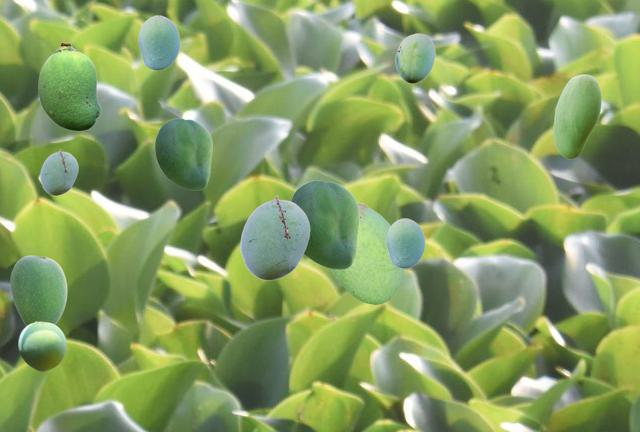green_mango: (330, 202, 403, 303), (290, 180, 358, 268), (240, 195, 309, 279), (38, 42, 100, 130), (155, 118, 211, 189), (553, 74, 600, 158), (10, 255, 66, 325), (18, 321, 65, 370), (138, 15, 179, 69), (395, 33, 434, 82), (386, 218, 424, 267), (40, 149, 77, 194)
